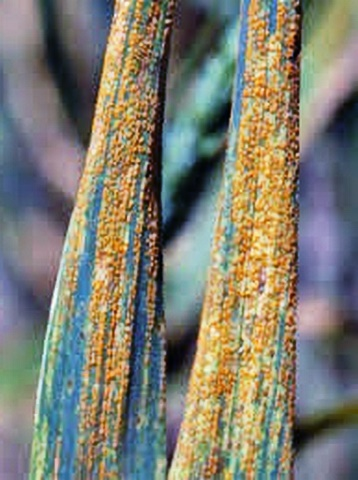Leaf Rust: (46, 34, 177, 464), (196, 23, 324, 432)
